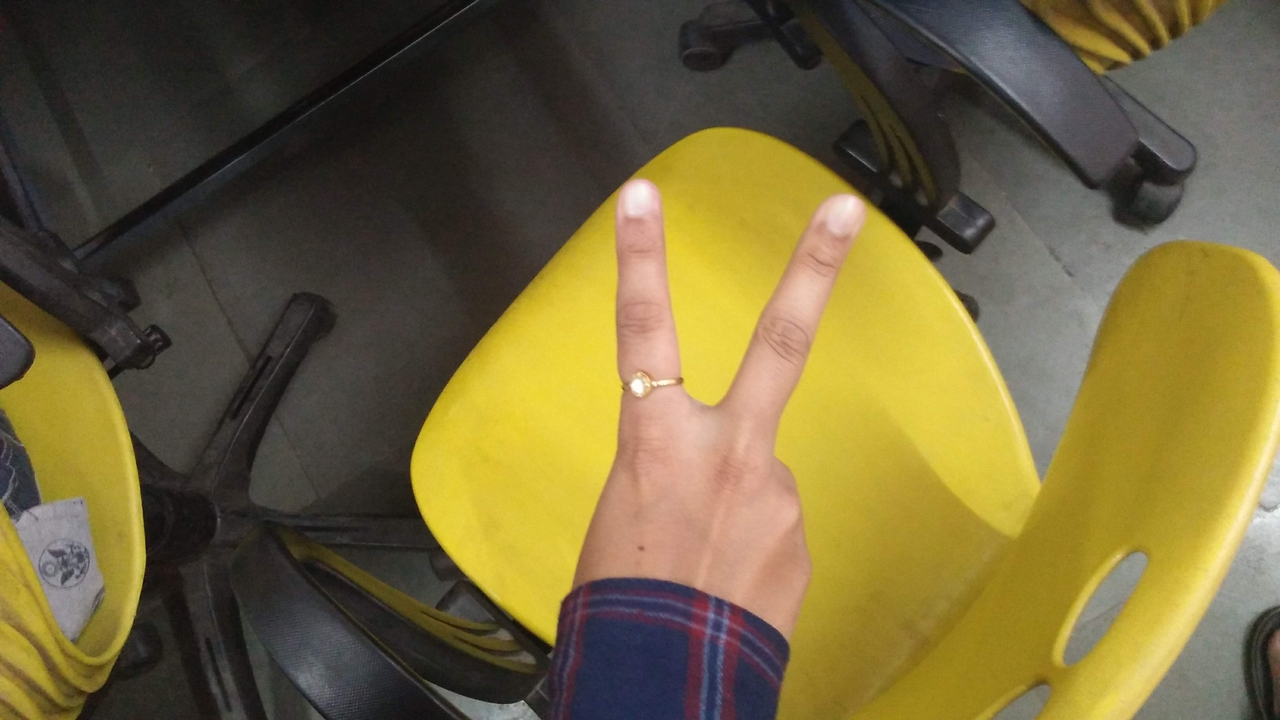fingertip: (806, 184, 872, 256), (610, 172, 670, 236)
